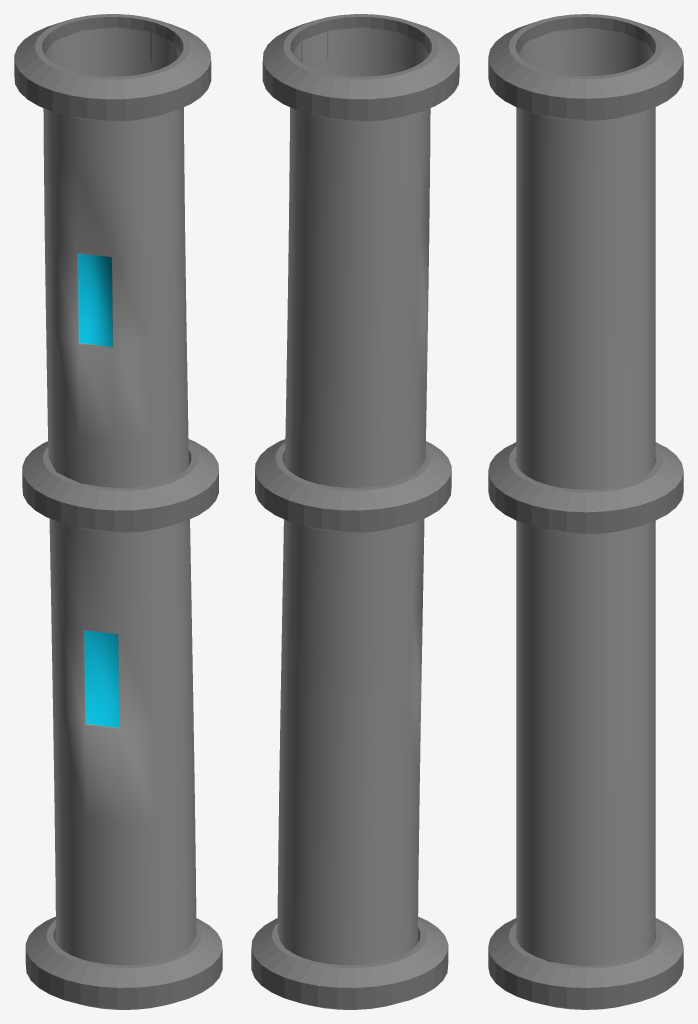
File: Truba LONG.fbx
The picture shows the model from 3 angles, left to right: view 1: azimuth 30°, elevation 25°; view 2: azimuth 150°, elevation 25°; view 3: azimuth 270°, elevation 25°; orthographic projection.
Visible parts, largest first — view 1: BezierCurve.001, Circle.002, Circle, Circle.001; view 2: BezierCurve.001, Circle.002, Circle, Circle.001; view 3: BezierCurve.001, Circle.002, Circle.001, Circle.
Part boxes in pixels (bbox=[...]): BezierCurve.001: bbox=[43, 27, 196, 965]; Circle.002: bbox=[14, 14, 211, 121]; Circle: bbox=[25, 916, 222, 1009]; Circle.001: bbox=[22, 439, 218, 532]; BezierCurve.001: bbox=[277, 27, 430, 965]; Circle.002: bbox=[262, 14, 459, 121]; Circle: bbox=[251, 916, 448, 1009]; Circle.001: bbox=[255, 439, 451, 532]; BezierCurve.001: bbox=[516, 28, 655, 966]; Circle.002: bbox=[488, 14, 683, 120]; Circle.001: bbox=[488, 442, 683, 534]; Circle: bbox=[488, 918, 683, 1009].
Size of the model in its own units: 59.84 by 293 by 56.1.
